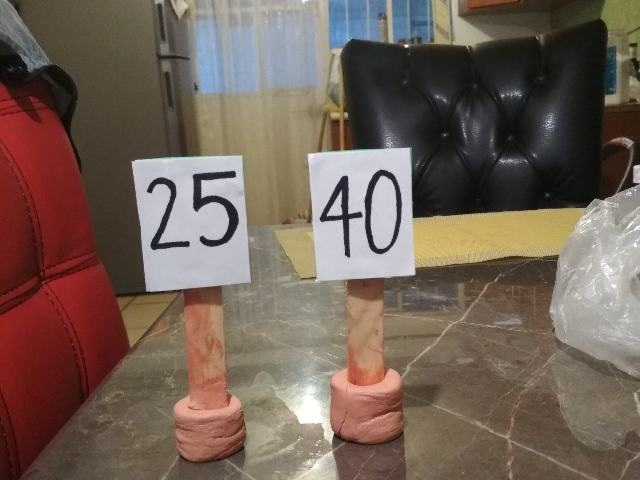Limit 25: (140, 152, 244, 295)
Limit 40: (313, 145, 412, 282)
